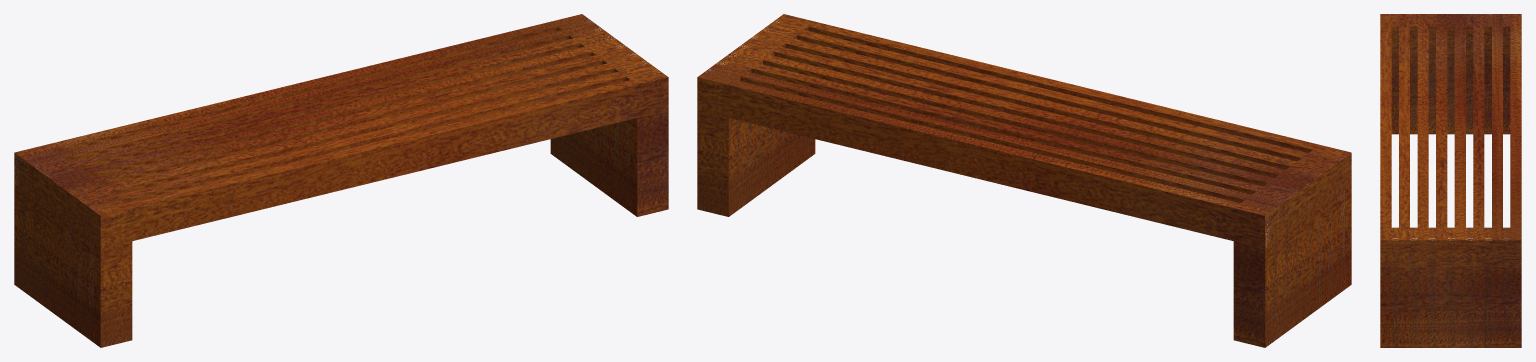
3 renders of one model, left to right at view 1: azimuth 30°, elevation 25°; view 2: azimuth 150°, elevation 25°; view 3: azimuth 270°, elevation 25°, orthographic. The views are drawn at different scales.
Visible parts, largest first — view 1: mesh1_mesh1-geometry; view 2: mesh1_mesh1-geometry; view 3: mesh1_mesh1-geometry.
Part boxes in pixels (x1,y1,x2,y2): mesh1_mesh1-geometry: (14, 14, 668, 347); mesh1_mesh1-geometry: (697, 14, 1351, 347); mesh1_mesh1-geometry: (1380, 14, 1521, 347).
Bounding box in the file's own units: 0.9453 × 0.2101 × 0.2495.
